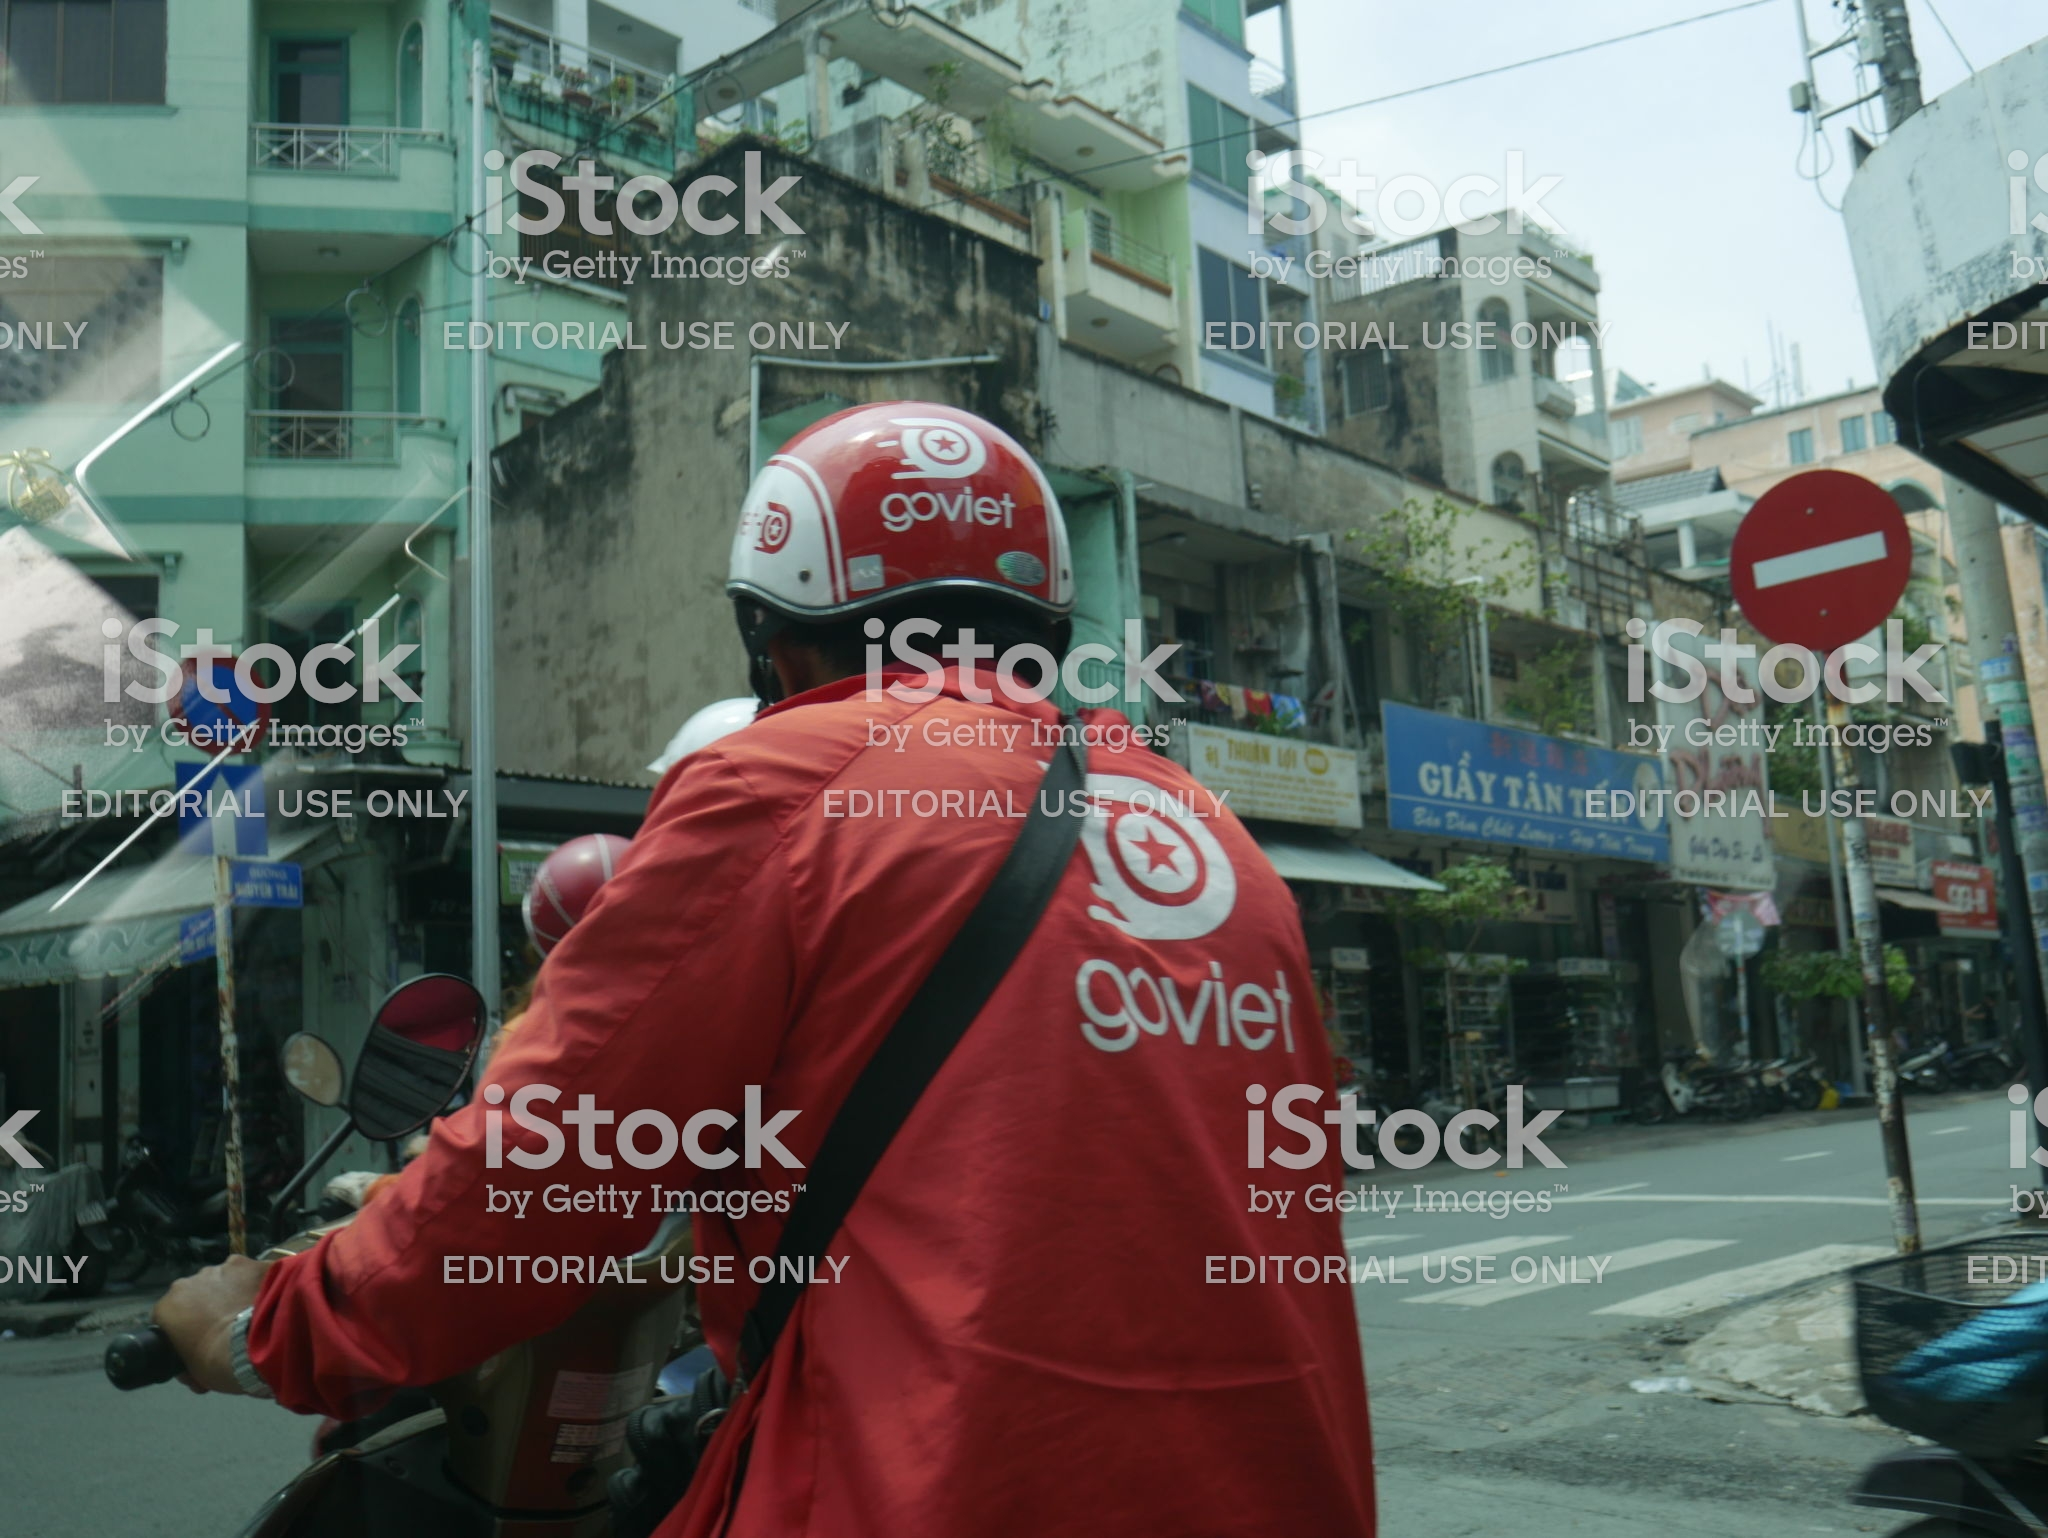helmet: (714, 396, 1066, 617)
